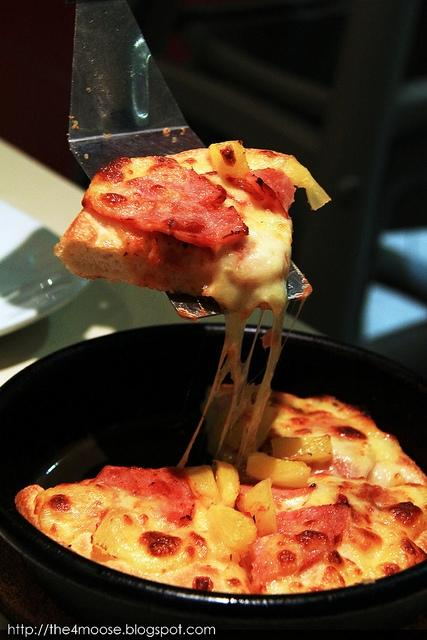pineapple: (91, 507, 150, 558), (280, 157, 332, 210), (247, 452, 312, 488), (209, 505, 258, 551), (270, 433, 334, 465), (185, 465, 223, 510), (207, 141, 250, 177), (212, 459, 240, 508), (254, 488, 278, 536)
